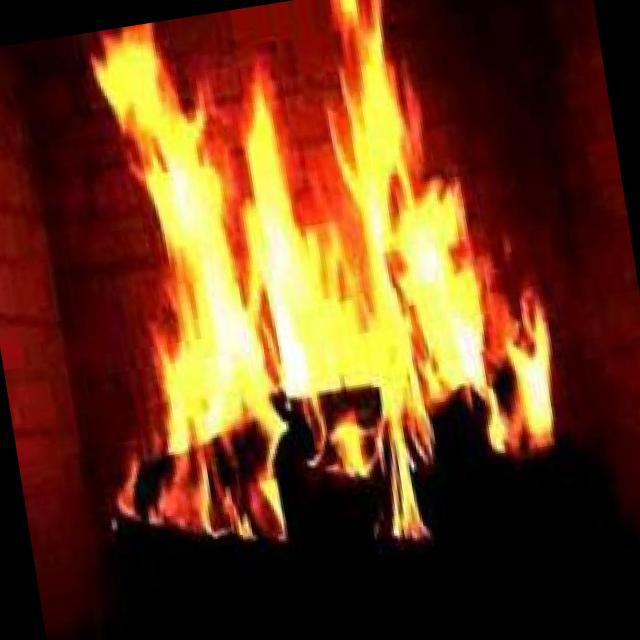Fire: (27, 0, 588, 601)
